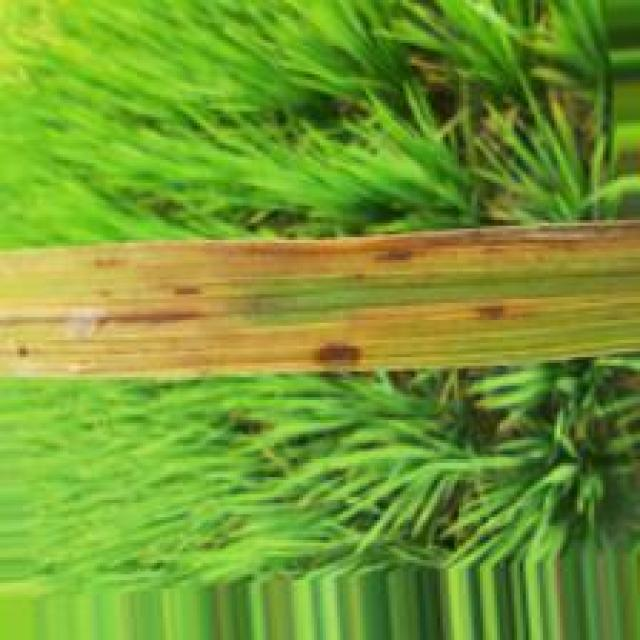Rice Tungro: (0, 223, 639, 380)
